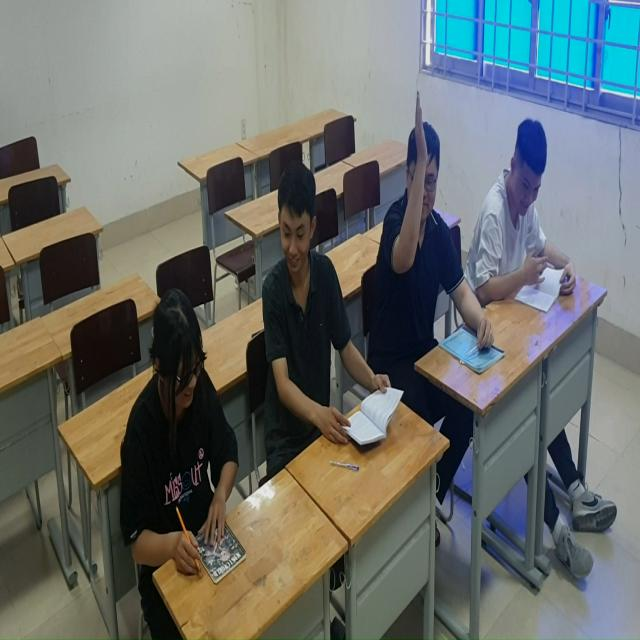raise_hand: (387, 90, 450, 317)
read: (112, 274, 257, 601), (252, 162, 397, 483), (474, 106, 581, 304)
